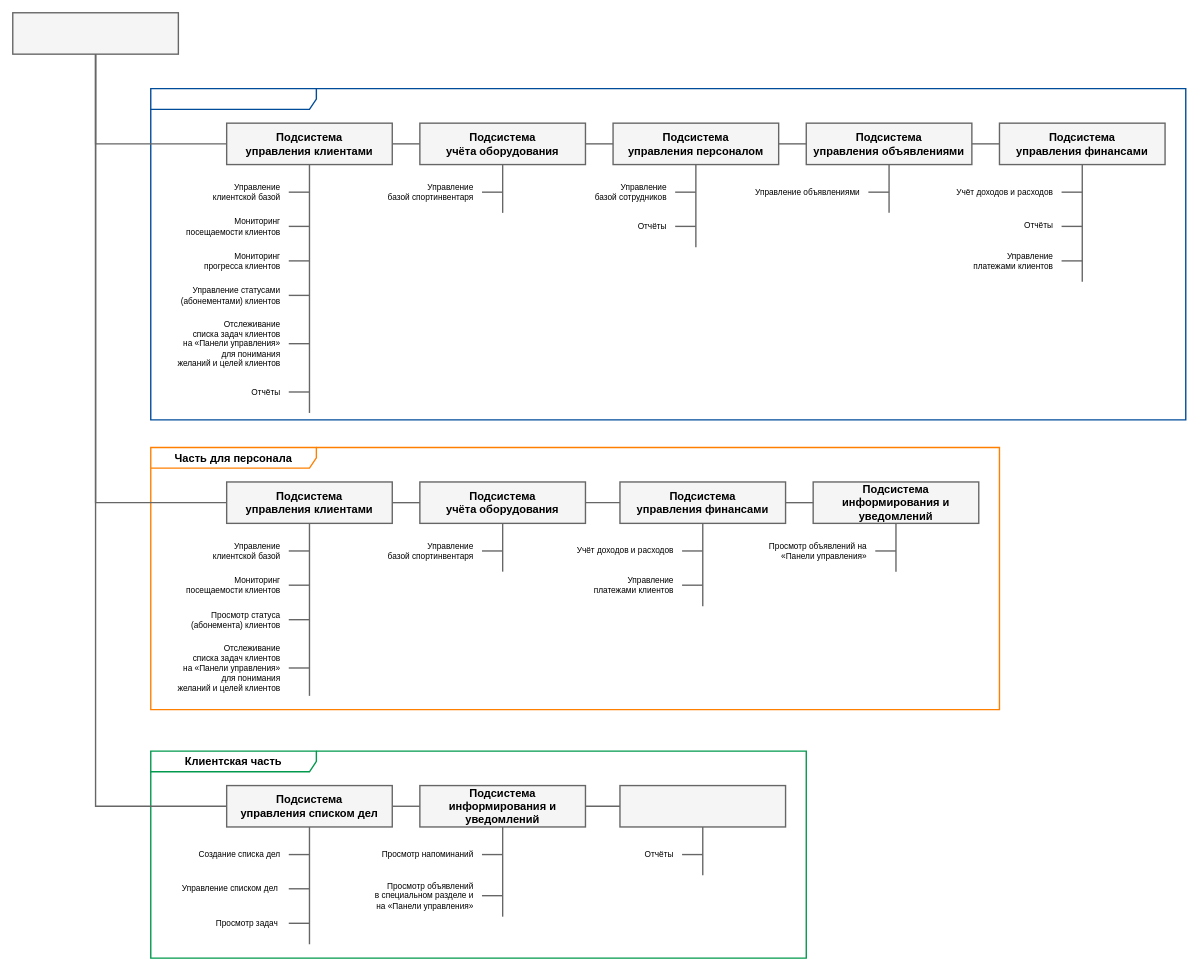
Some shapes in this 1198 by 970 pixel diagram are drawn without their labels. The shapes that lost their labels are listed below. From the top down, each one's centre as x and y in pixels, then its label:
At [95,33]: "Информационная система спорткомплекса".
At [668,254]: "Административная часть".
At [702,806]: "Подсистема отчётов".
